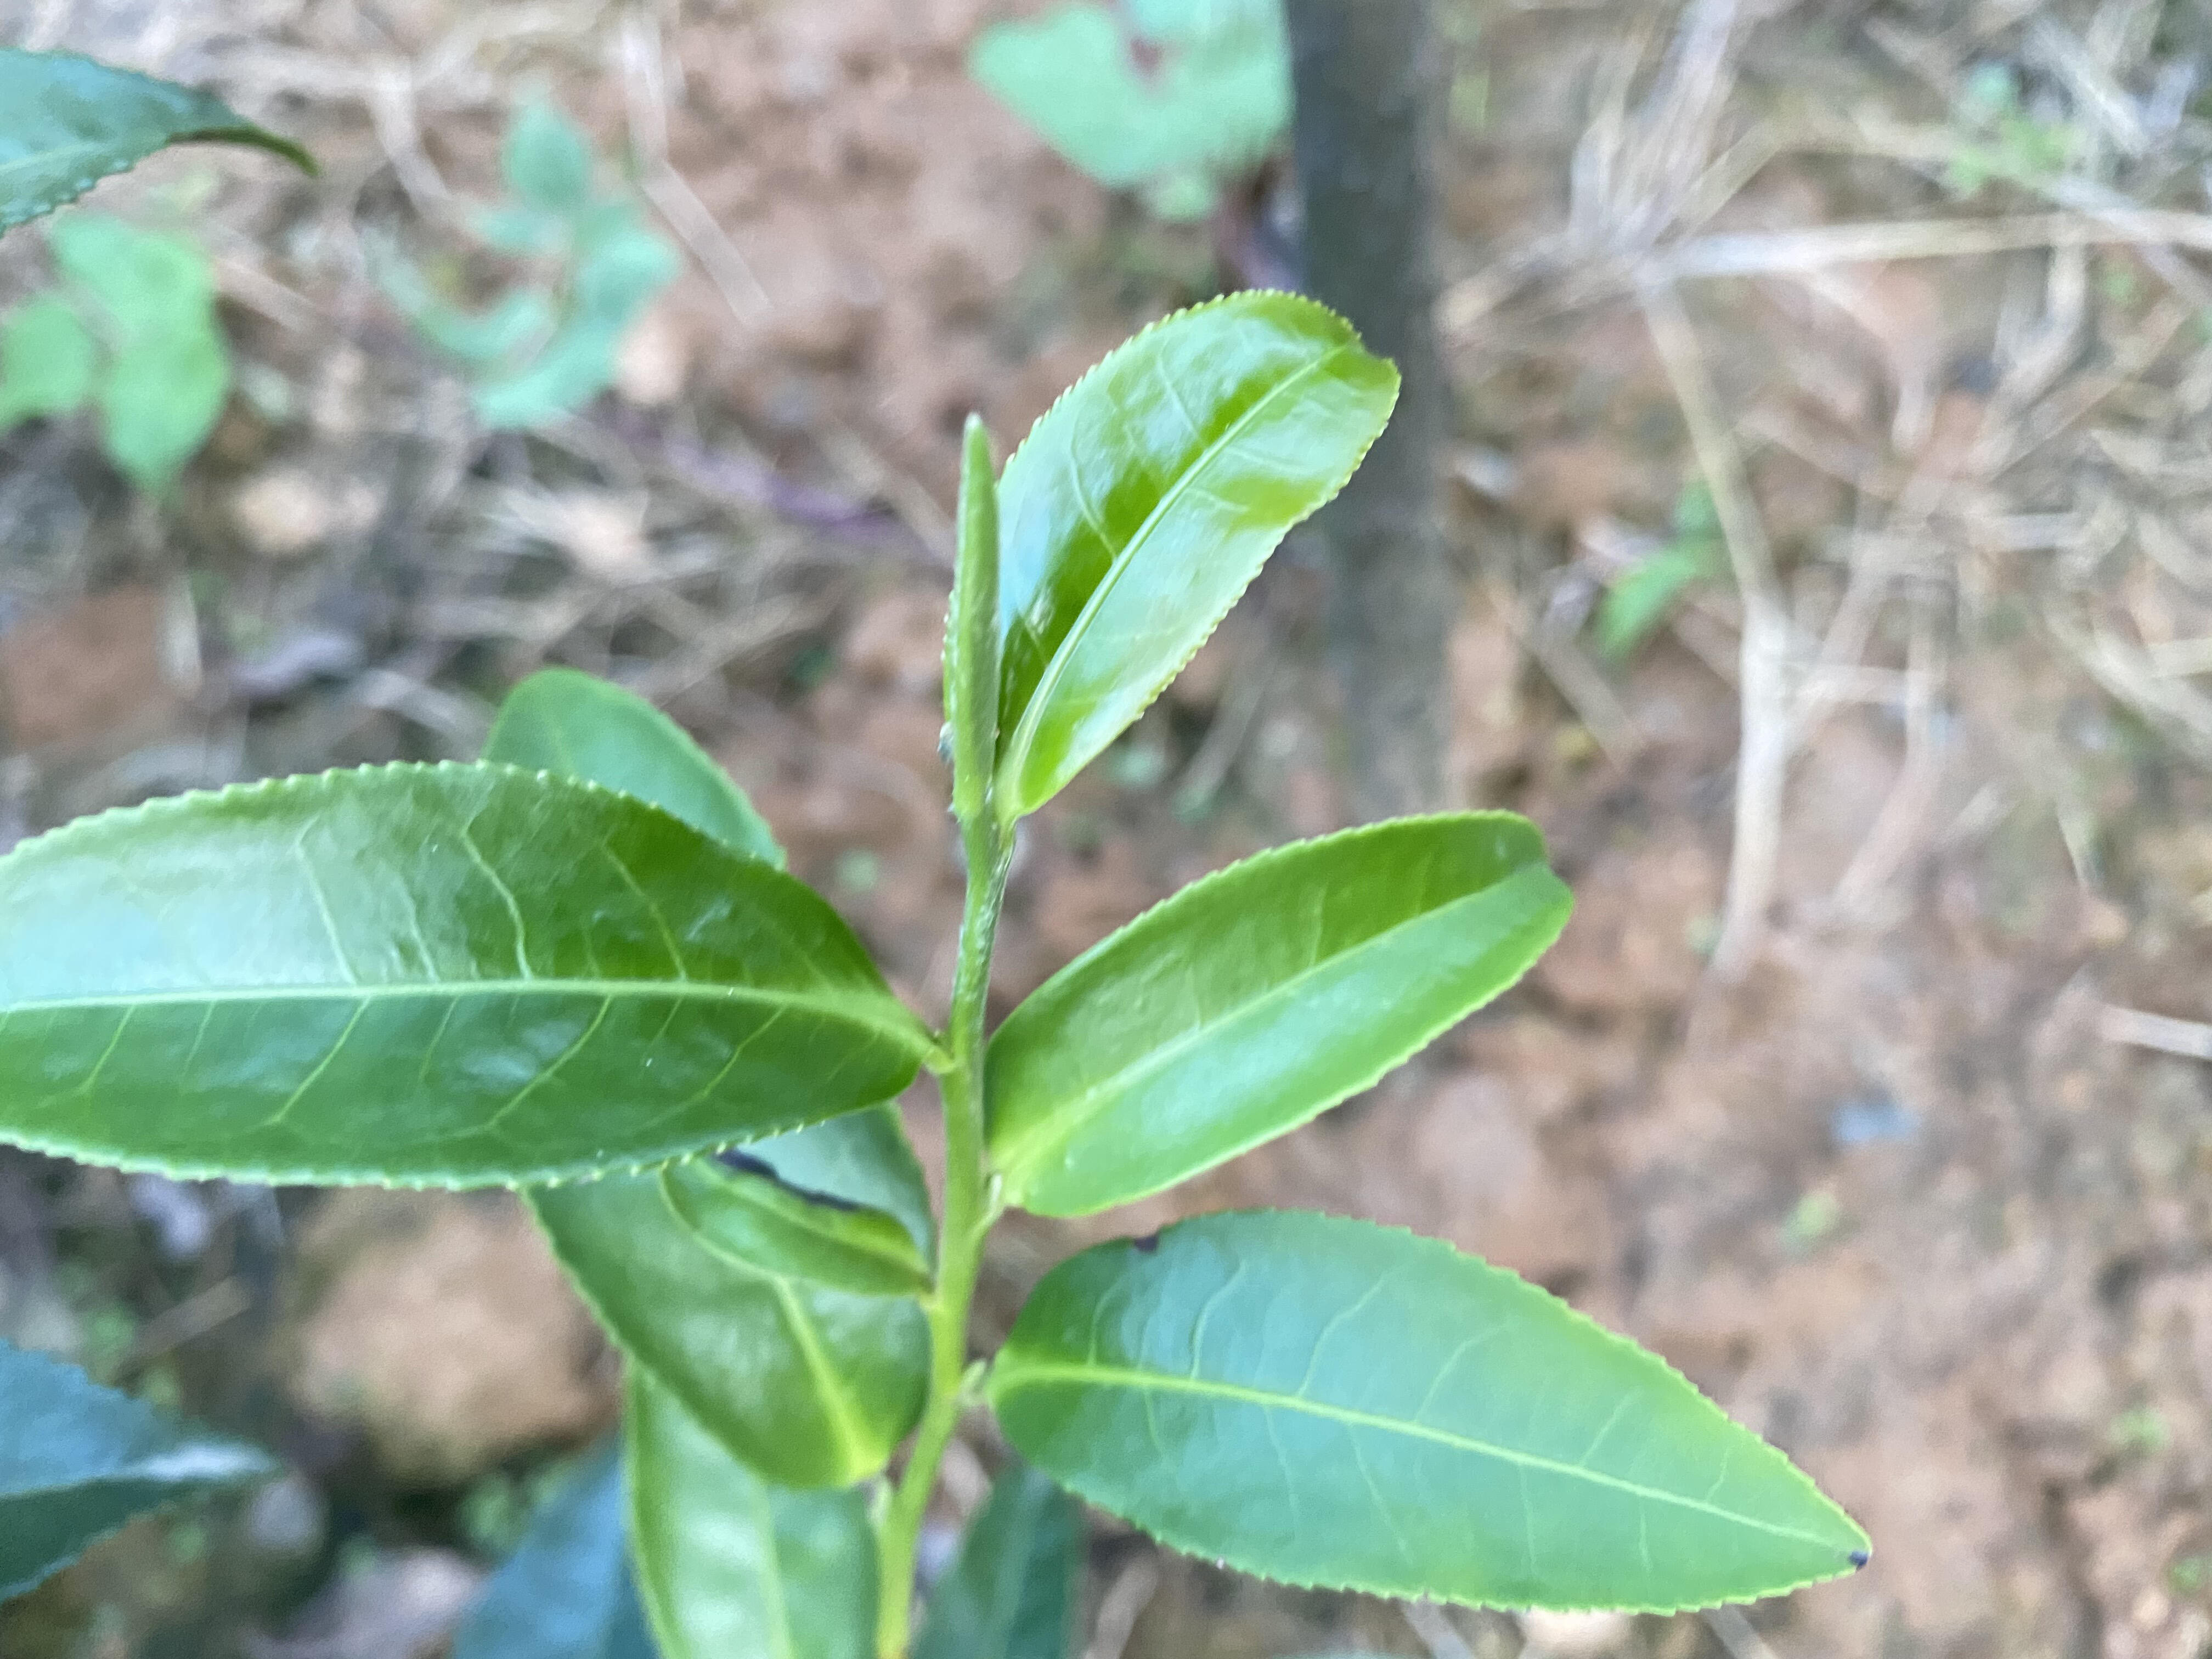healthy: (2, 756, 921, 1190), (946, 288, 1402, 816), (989, 809, 1575, 1215)
tanju_low: (996, 1208, 1874, 1617)
